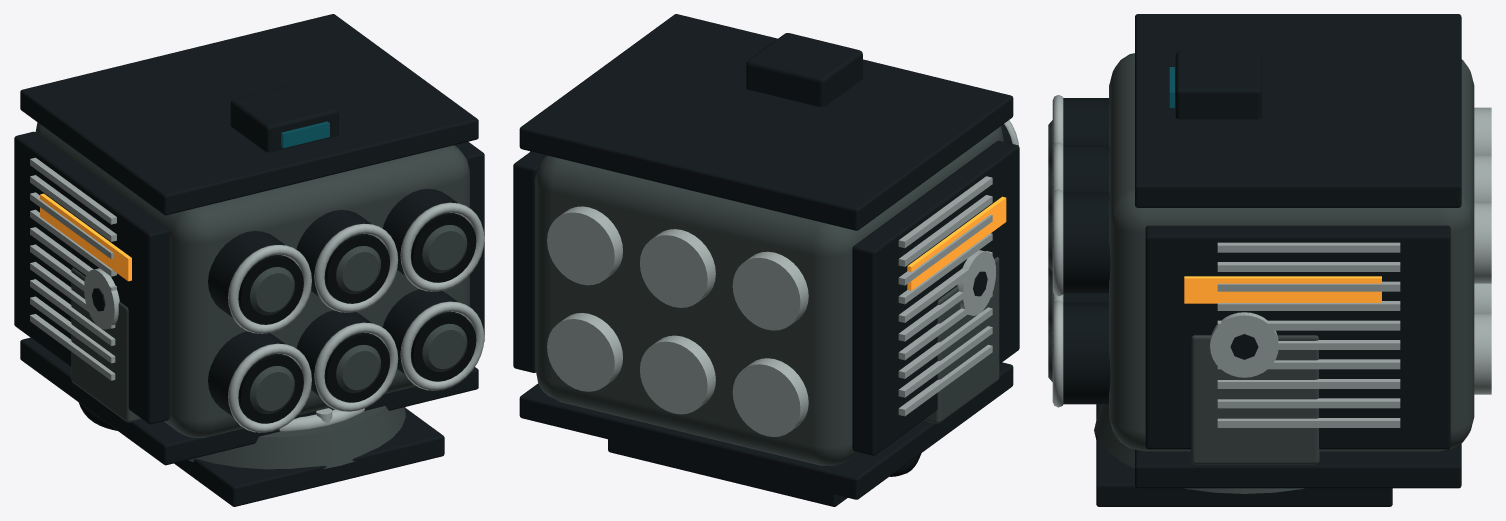
The model's file is missile-pod.glb.
3 views of the same model, side by side, from view 1: azimuth 30°, elevation 25°; view 2: azimuth 150°, elevation 25°; view 3: azimuth 270°, elevation 25° (orthographic). The views are drawn at different scales.
Visible parts, largest first — view 1: pod-housing__Recessed_carbon_mechanism, pod-housing__Cerakote_graphite_armor, side-armor__Recessed_carbon_mechanism, cell-rims__Machined_titanium, launch-cells__Recessed_carbon_mechanism, cell-interiors__Vibration_isolator, cell-safety-caps__Cerakote_graphite_armor, cooling-fins__Machined_titanium, mount__Recessed_carbon_mechanism, mount__Cerakote_graphite_armor, sensor__Recessed_carbon_mechanism, cradle__Cerakote_graphite_armor (+4 smaller); view 2: pod-housing__Recessed_carbon_mechanism, pod-housing__Cerakote_graphite_armor, rear-caps__Machined_titanium, side-armor__Recessed_carbon_mechanism, cooling-fins__Machined_titanium, sensor__Recessed_carbon_mechanism, cradle__Cerakote_graphite_armor, mount__Recessed_carbon_mechanism, identification__Amber_safety_identification, trunnion__Machined_titanium; view 3: pod-housing__Recessed_carbon_mechanism, side-armor__Recessed_carbon_mechanism, pod-housing__Cerakote_graphite_armor, cooling-fins__Machined_titanium, launch-cells__Recessed_carbon_mechanism, cradle__Cerakote_graphite_armor, mount__Recessed_carbon_mechanism, sensor__Recessed_carbon_mechanism, rear-caps__Machined_titanium, identification__Amber_safety_identification, cell-rims__Machined_titanium, trunnion__Machined_titanium (+3 smaller).
Part boxes in pixels (x1=…): pod-housing__Recessed_carbon_mechanism: x1=20, y1=14, x2=478, y2=465; pod-housing__Cerakote_graphite_armor: x1=35, y1=122, x2=469, y2=437; side-armor__Recessed_carbon_mechanism: x1=14, y1=131, x2=484, y2=424; cell-rims__Machined_titanium: x1=228, y1=202, x2=484, y2=432; launch-cells__Recessed_carbon_mechanism: x1=208, y1=189, x2=469, y2=420; cell-interiors__Vibration_isolator: x1=239, y1=213, x2=476, y2=423; cell-safety-caps__Cerakote_graphite_armor: x1=250, y1=225, x2=467, y2=413; cooling-fins__Machined_titanium: x1=30, y1=157, x2=116, y2=380; mount__Recessed_carbon_mechanism: x1=174, y1=408, x2=444, y2=506; mount__Cerakote_graphite_armor: x1=188, y1=406, x2=405, y2=469; sensor__Recessed_carbon_mechanism: x1=230, y1=83, x2=338, y2=152; cradle__Cerakote_graphite_armor: x1=71, y1=267, x2=141, y2=422; pod-housing__Recessed_carbon_mechanism: x1=519, y1=14, x2=1013, y2=499; pod-housing__Cerakote_graphite_armor: x1=535, y1=126, x2=1003, y2=465; rear-caps__Machined_titanium: x1=547, y1=206, x2=808, y2=436; side-armor__Recessed_carbon_mechanism: x1=513, y1=140, x2=1019, y2=455; cooling-fins__Machined_titanium: x1=530, y1=151, x2=992, y2=416; sensor__Recessed_carbon_mechanism: x1=746, y1=33, x2=862, y2=107; cradle__Cerakote_graphite_armor: x1=923, y1=257, x2=999, y2=423; mount__Recessed_carbon_mechanism: x1=608, y1=439, x2=847, y2=506; identification__Amber_safety_identification: x1=907, y1=196, x2=1006, y2=290; trunnion__Machined_titanium: x1=957, y1=250, x2=995, y2=315; pod-housing__Recessed_carbon_mechanism: x1=1135, y1=14, x2=1461, y2=488; side-armor__Recessed_carbon_mechanism: x1=1145, y1=225, x2=1450, y2=449; pod-housing__Cerakote_graphite_armor: x1=1109, y1=53, x2=1474, y2=451; cooling-fins__Machined_titanium: x1=1217, y1=242, x2=1400, y2=427; launch-cells__Recessed_carbon_mechanism: x1=1063, y1=98, x2=1110, y2=404; cradle__Cerakote_graphite_armor: x1=1190, y1=335, x2=1319, y2=464; mount__Recessed_carbon_mechanism: x1=1096, y1=404, x2=1392, y2=506; sensor__Recessed_carbon_mechanism: x1=1175, y1=51, x2=1261, y2=119; rear-caps__Machined_titanium: x1=1474, y1=107, x2=1491, y2=394; identification__Amber_safety_identification: x1=1184, y1=276, x2=1381, y2=303; cell-rims__Machined_titanium: x1=1052, y1=95, x2=1063, y2=407; trunnion__Machined_titanium: x1=1210, y1=312, x2=1278, y2=377.
Bounding box in the file's own units: 2.12 × 1.95 × 2.06.
